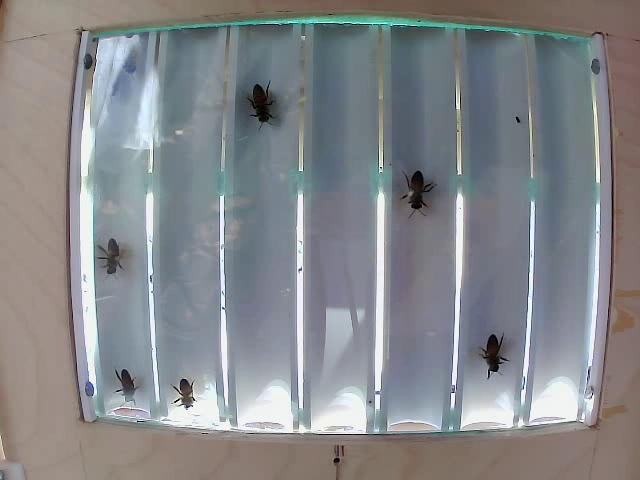bee: (472, 335, 509, 377), (403, 164, 434, 214), (100, 237, 136, 279), (249, 77, 282, 117)
